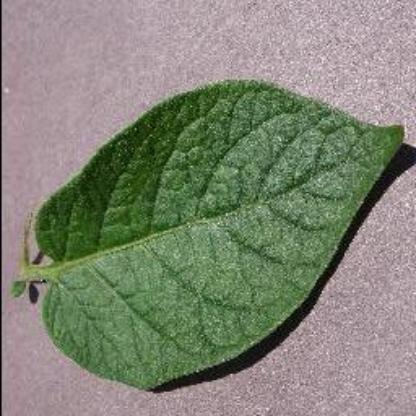Healthy-plant: (12, 72, 412, 396)
